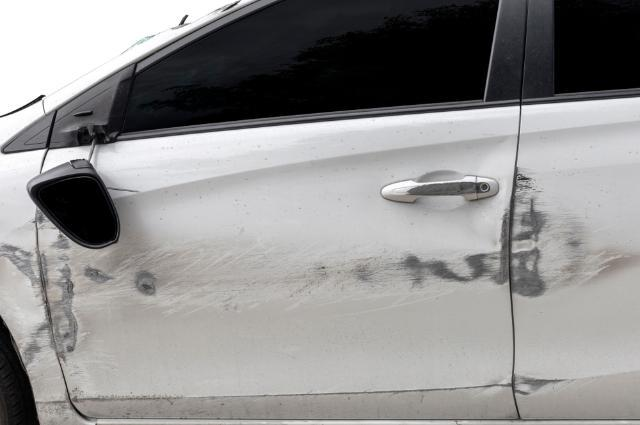scratch: (37, 206, 512, 395), (511, 164, 640, 300), (0, 235, 53, 379), (510, 371, 572, 397)
